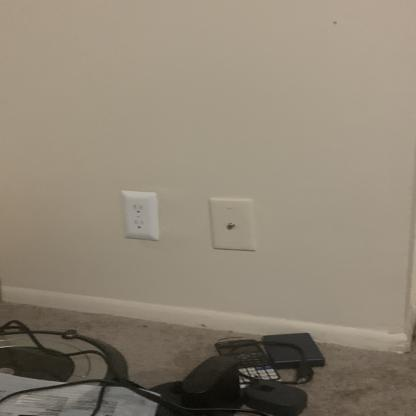OUTLET: (122, 191, 158, 240)
